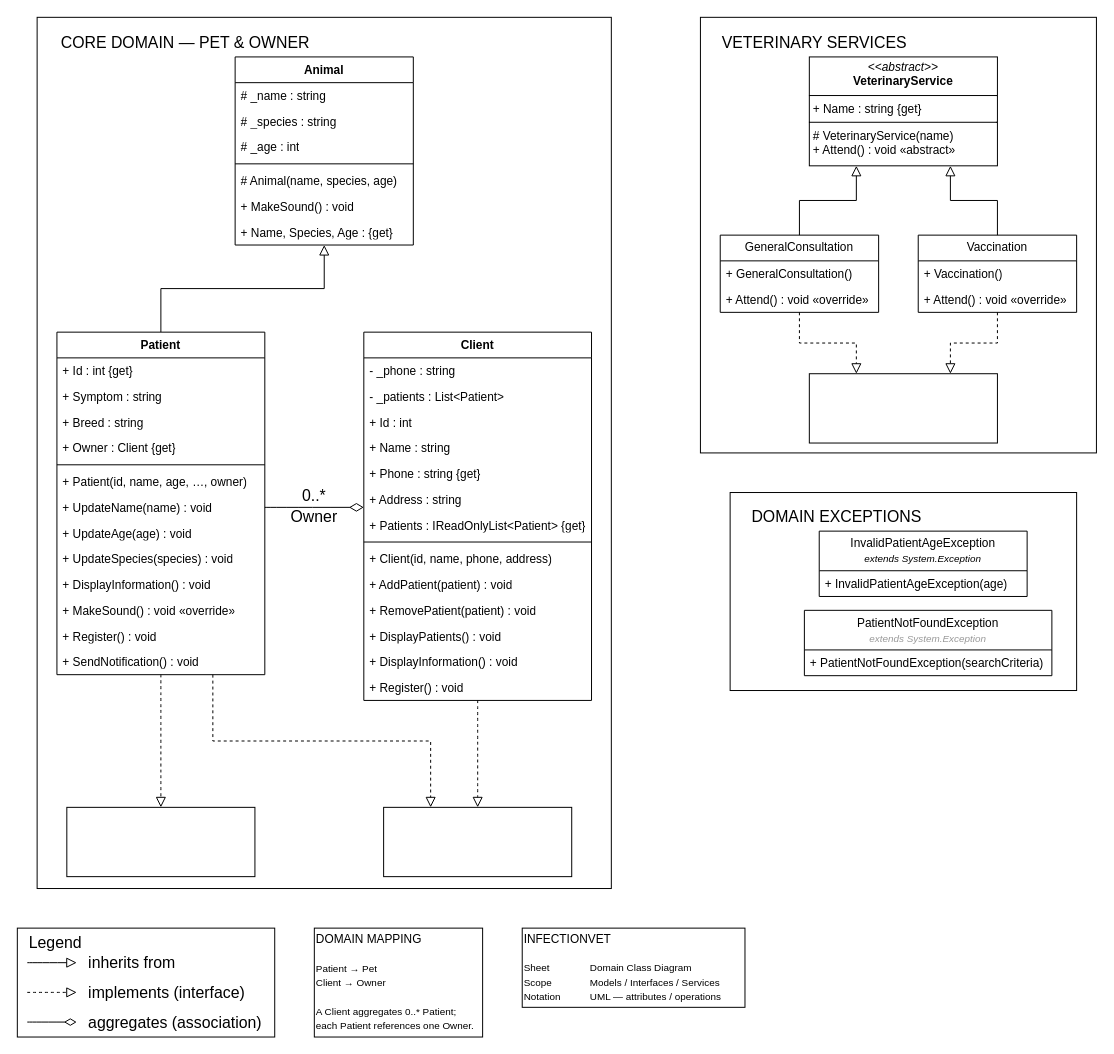
The diagram is 1114 pixels wide and 1054 high, and some of its shapes have lost their labels. Each missing label, with the centre of its shape:
<<Interface>> IAtendible + Attend() : void: the point at 902,408
<<Interface>> INotifiable + SendNotification() : void: the point at 160,841
<<Interface>> IRegistrable + Register() : void: the point at 477,841
